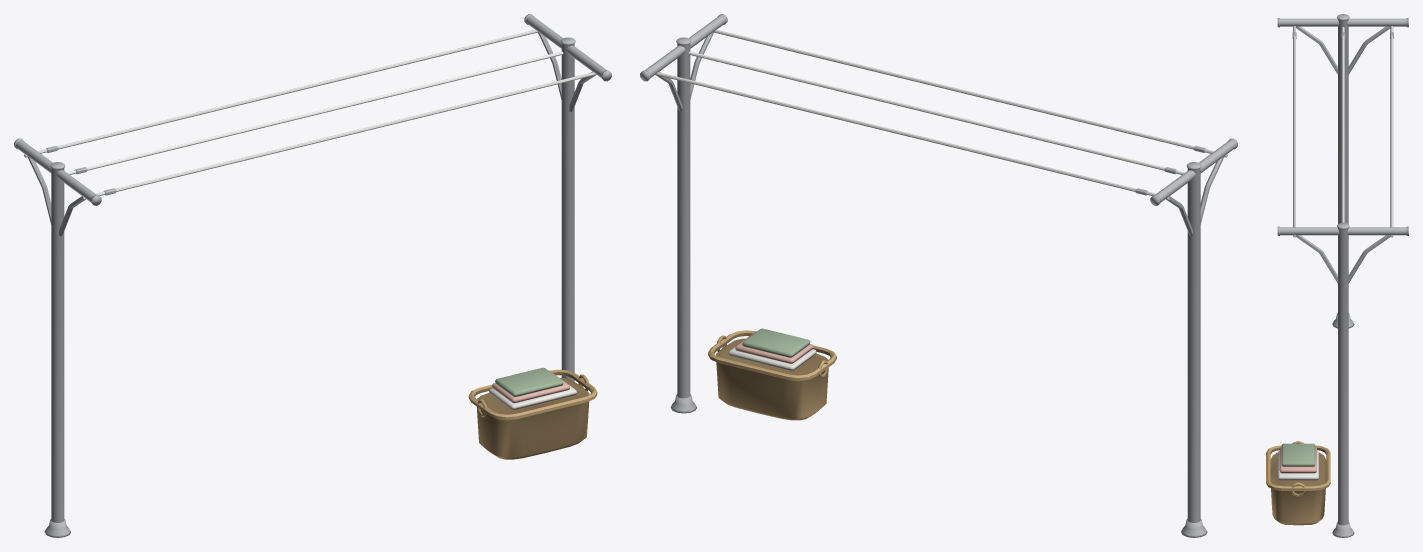
File: clothesline.glb
3 renders of one model, left to right at view 1: azimuth 30°, elevation 25°; view 2: azimuth 150°, elevation 25°; view 3: azimuth 270°, elevation 25°, orthographic. The views are drawn at different scales.
Visible parts, largest first — view 1: posts; view 2: posts; view 3: posts.
Part boxes in pixels (x1,y1,x2,y2): posts: (14,14,611,537); posts: (640,14,1237,537); posts: (1266,14,1408,537).
Size of the model in its own units: 2.76 by 1.82 by 0.7641.
